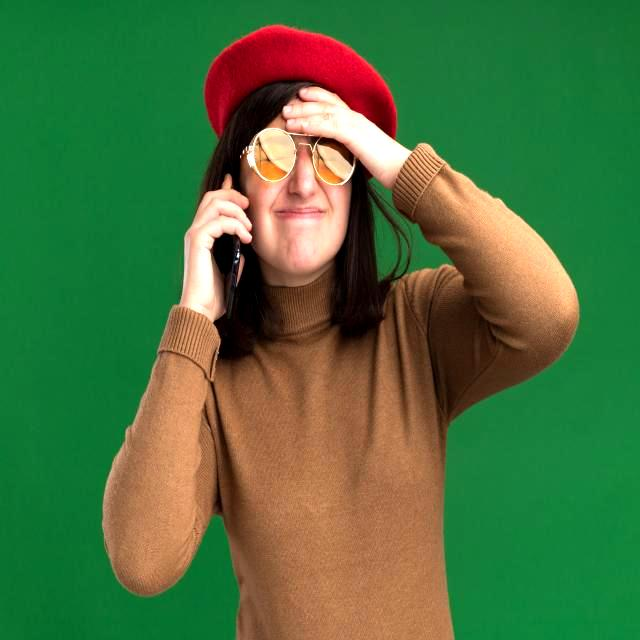no_hard_hat: (204, 25, 396, 139)
person: (102, 26, 578, 640)
